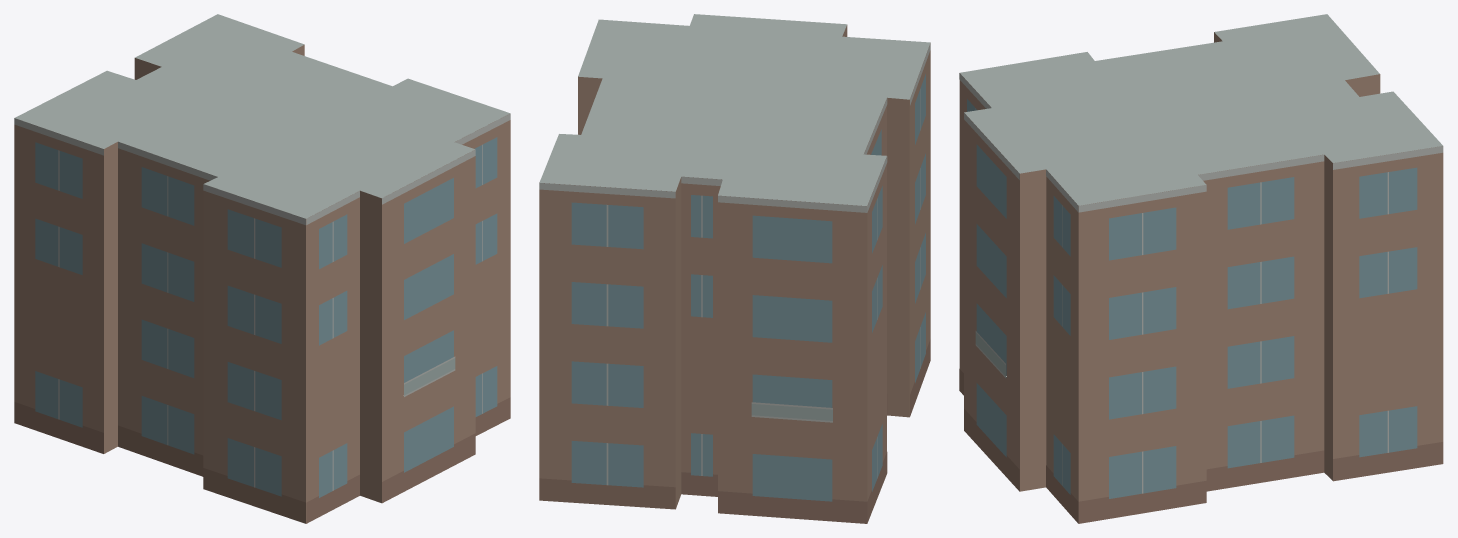
Rendered from survey-upis-32863563.glb.
3 renders of one model, left to right at view 1: azimuth 30°, elevation 25°; view 2: azimuth 150°, elevation 25°; view 3: azimuth 270°, elevation 25°, orthographic. The views are drawn at different scales.
Parts seen in each view (by area): view 1: survey-upis-32863563.tmp; view 2: survey-upis-32863563.tmp; view 3: survey-upis-32863563.tmp.
Boxes of the visible parts, x1,y1,x2,y2 form: survey-upis-32863563.tmp: (14,14,510,523); survey-upis-32863563.tmp: (539,14,930,523); survey-upis-32863563.tmp: (959,14,1443,523).
Size of the model in its own units: 14.75 by 11.4 by 15.72.
